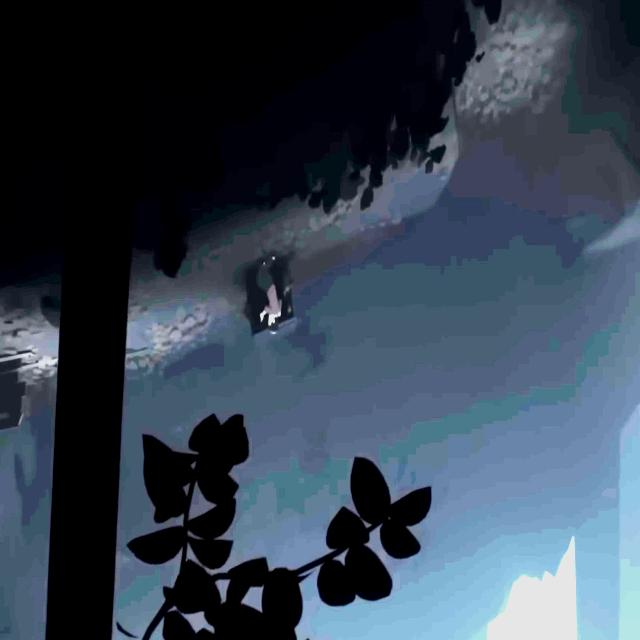boy: (260, 249, 282, 334)
